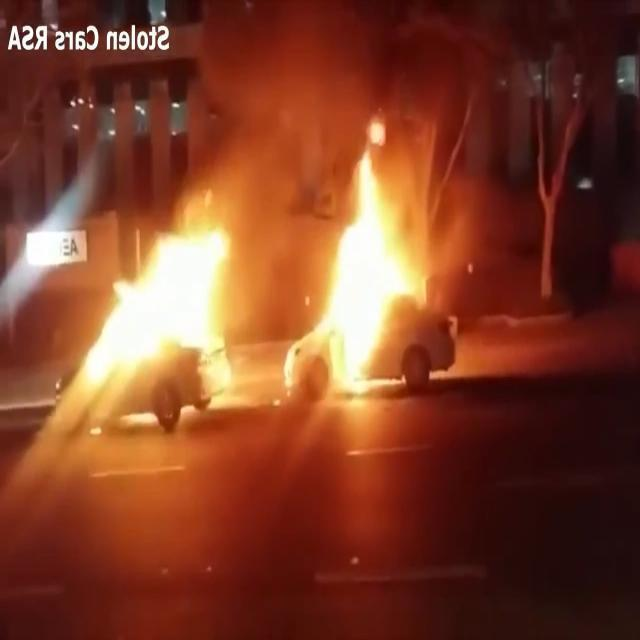fire: (82, 222, 233, 364), (330, 151, 416, 368)
